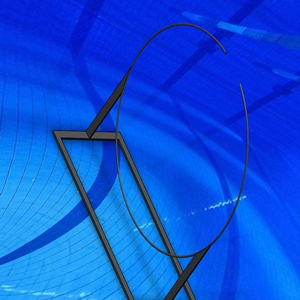circle: (52, 22, 252, 299)
